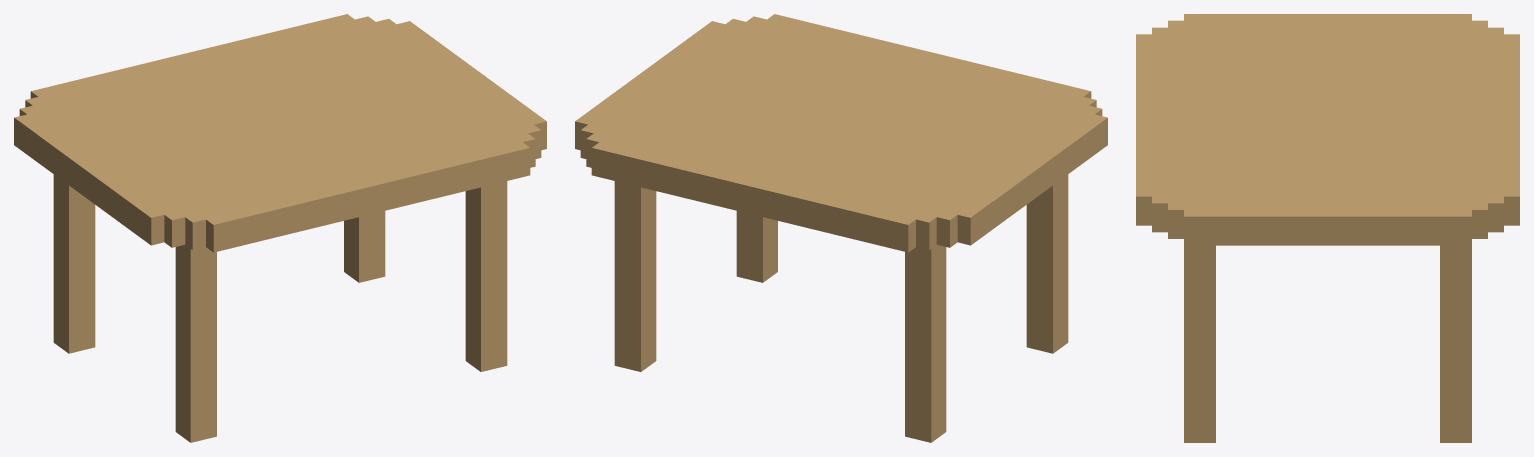
Rendered from IKEA_Mesa.fbx.
3 renders of one model, left to right at view 1: azimuth 30°, elevation 25°; view 2: azimuth 150°, elevation 25°; view 3: azimuth 270°, elevation 25°, orthographic. The views are drawn at different scales.
Parts seen in each view (by area): view 1: IKEA_Mesa; view 2: IKEA_Mesa; view 3: IKEA_Mesa.
Part boxes in pixels (x1,y1,x2,y2): IKEA_Mesa: (14,14,546,442); IKEA_Mesa: (575,14,1107,442); IKEA_Mesa: (1136,14,1519,442).
Bounding box in the file's own units: 300 × 170 × 240.
